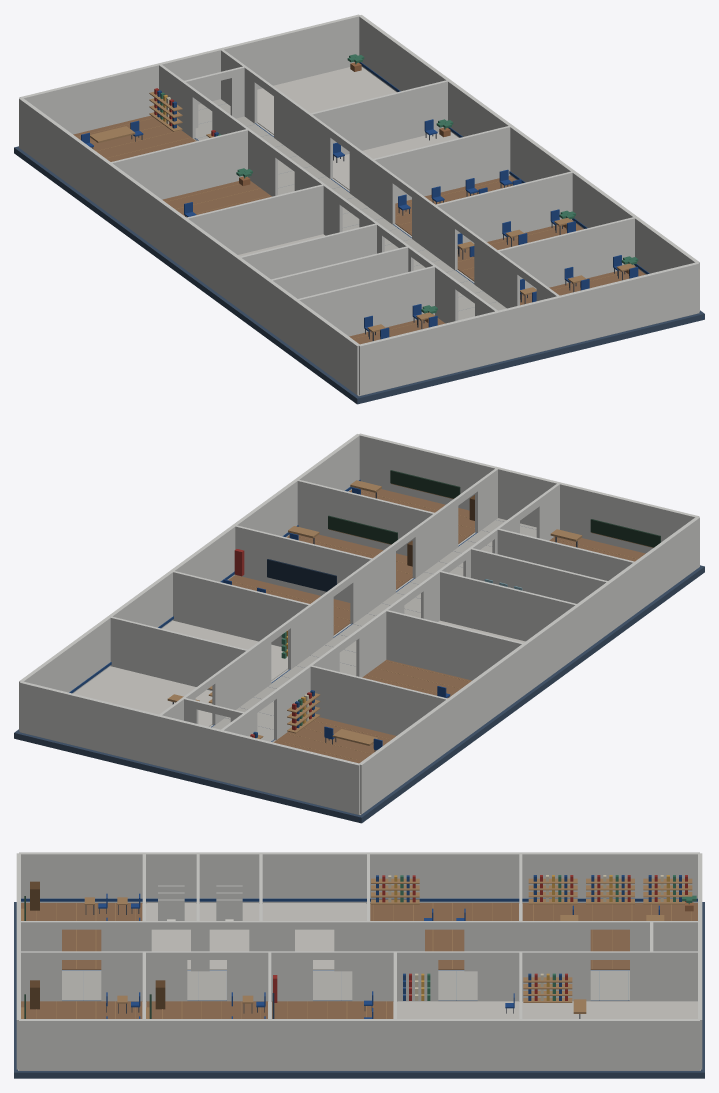
The model's file is pavimento-1.glb.
The picture shows the model from 3 angles, top to bottom: view 1: azimuth 30°, elevation 25°; view 2: azimuth 150°, elevation 25°; view 3: azimuth 270°, elevation 25°; orthographic projection.
Visible parts, largest first — view 1: structure, floors, furniture; view 2: structure, floors, furniture; view 3: structure, floors, furniture.
Boxes of the visible parts, x1,y1,x2,y2 form: structure: (19,14,699,395); floors: (14,67,704,404); furniture: (81,54,638,340); structure: (19,433,699,814); floors: (14,489,704,823); furniture: (167,470,660,751); structure: (16,852,702,1070); floors: (14,902,704,1078); furniture: (21,875,696,1018).
Bounding box in the file's own units: 22.55 × 3.47 × 38.55.
